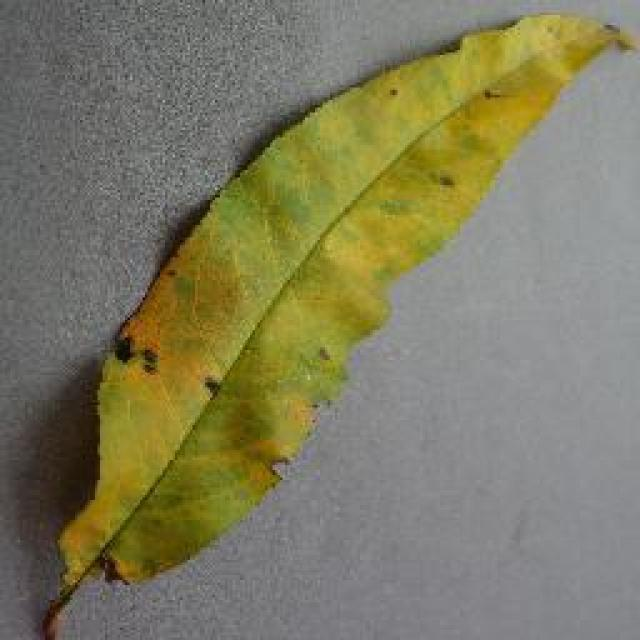Peach_Bacterial_Spot: (75, 295, 337, 463)
